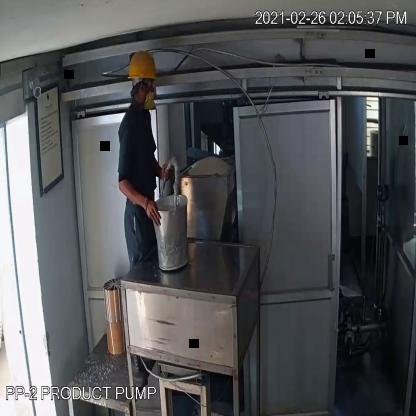helmet: (125, 50, 162, 84)
